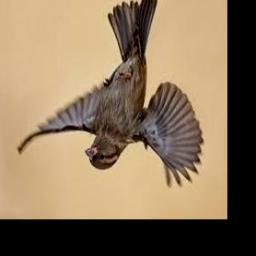Sparrow: (17, 0, 203, 188)
